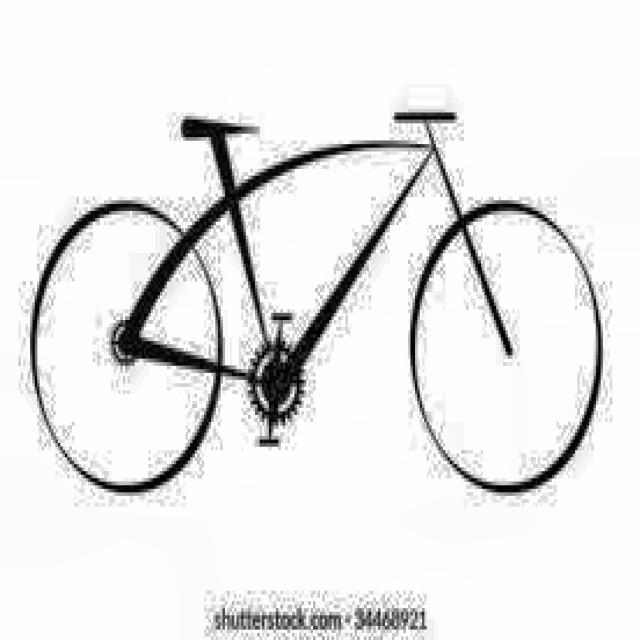bicycle: (19, 100, 610, 503)
